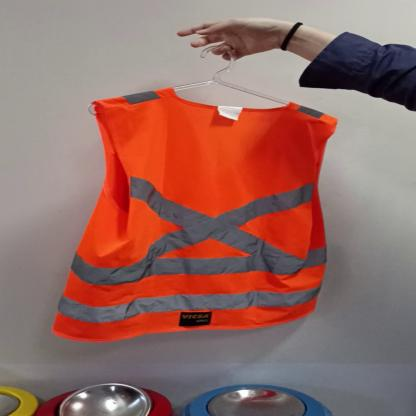colete: (56, 88, 333, 340)
